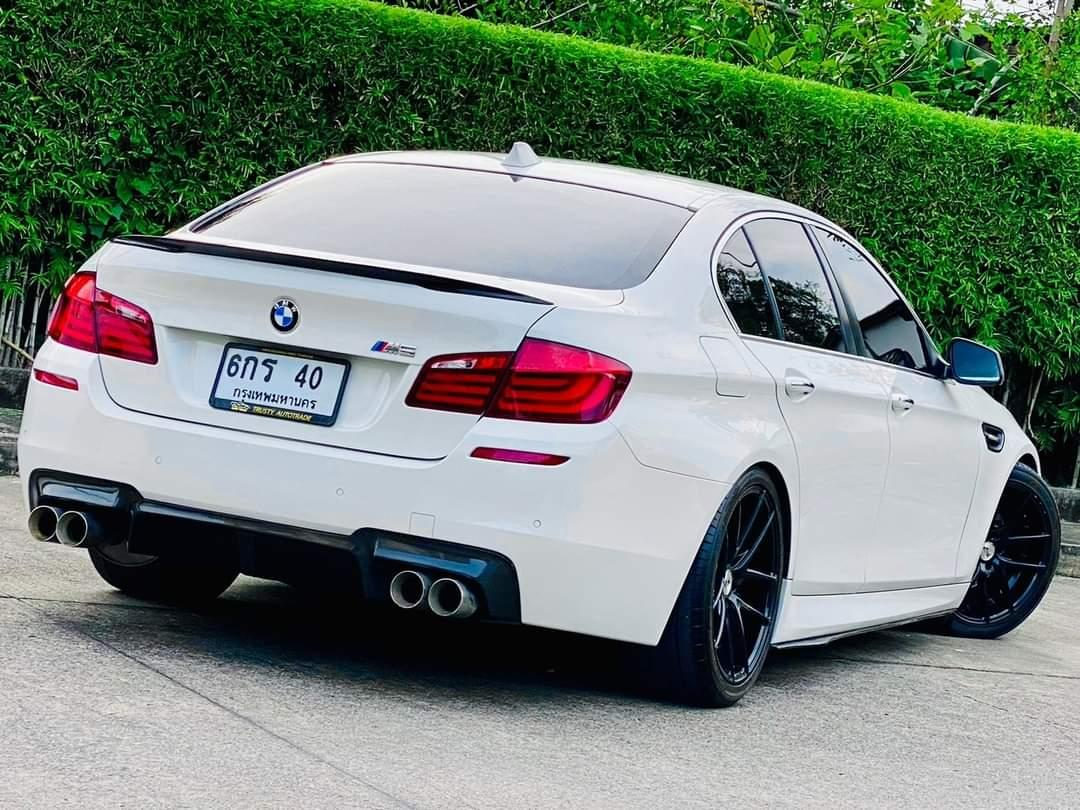license-plate: (207, 332, 350, 431)
